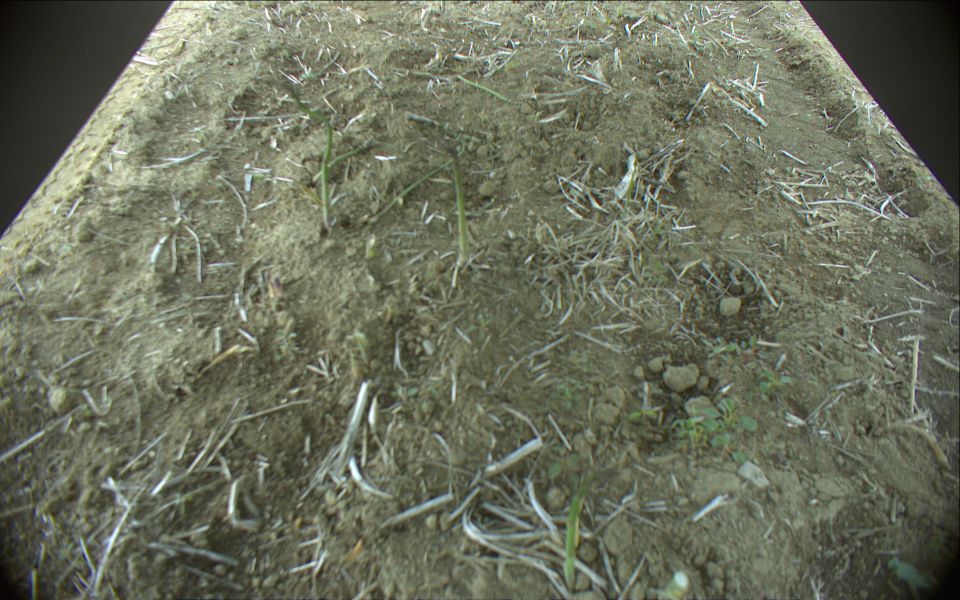aspa: (368, 147, 468, 223), (283, 83, 334, 227), (446, 147, 472, 263), (310, 138, 375, 184), (561, 485, 586, 589), (455, 72, 523, 108)
